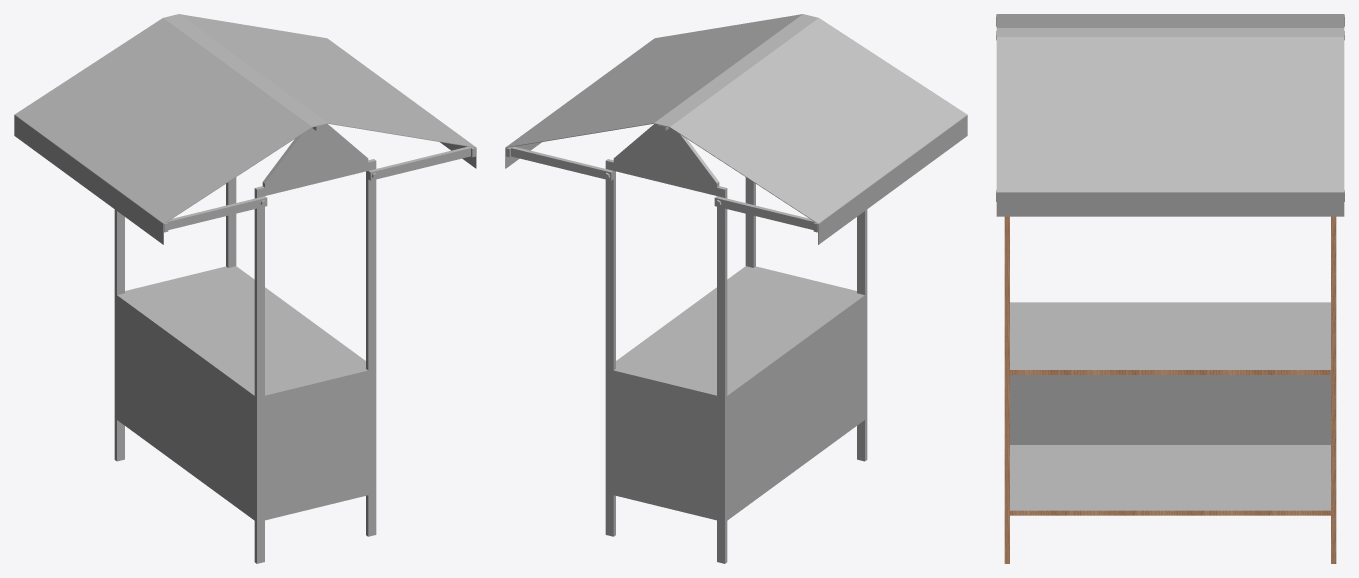
Rendered from Pieza1.glb.
The picture shows the model from 3 angles, left to right: view 1: azimuth 30°, elevation 25°; view 2: azimuth 150°, elevation 25°; view 3: azimuth 270°, elevation 25°; orthographic projection. The views are drawn at different scales.
Parts seen in each view (by area): view 1: Sólido1; view 2: Sólido1; view 3: Sólido1.
Part boxes in pixels (box(x1,y1,x2,y2)): Sólido1: box(14, 14, 476, 563); Sólido1: box(505, 14, 967, 563); Sólido1: box(996, 14, 1344, 563).
Bounding box in the file's own units: 1.58 × 2.05 × 1.3.
Materials: 2 (1 with a texture image).
